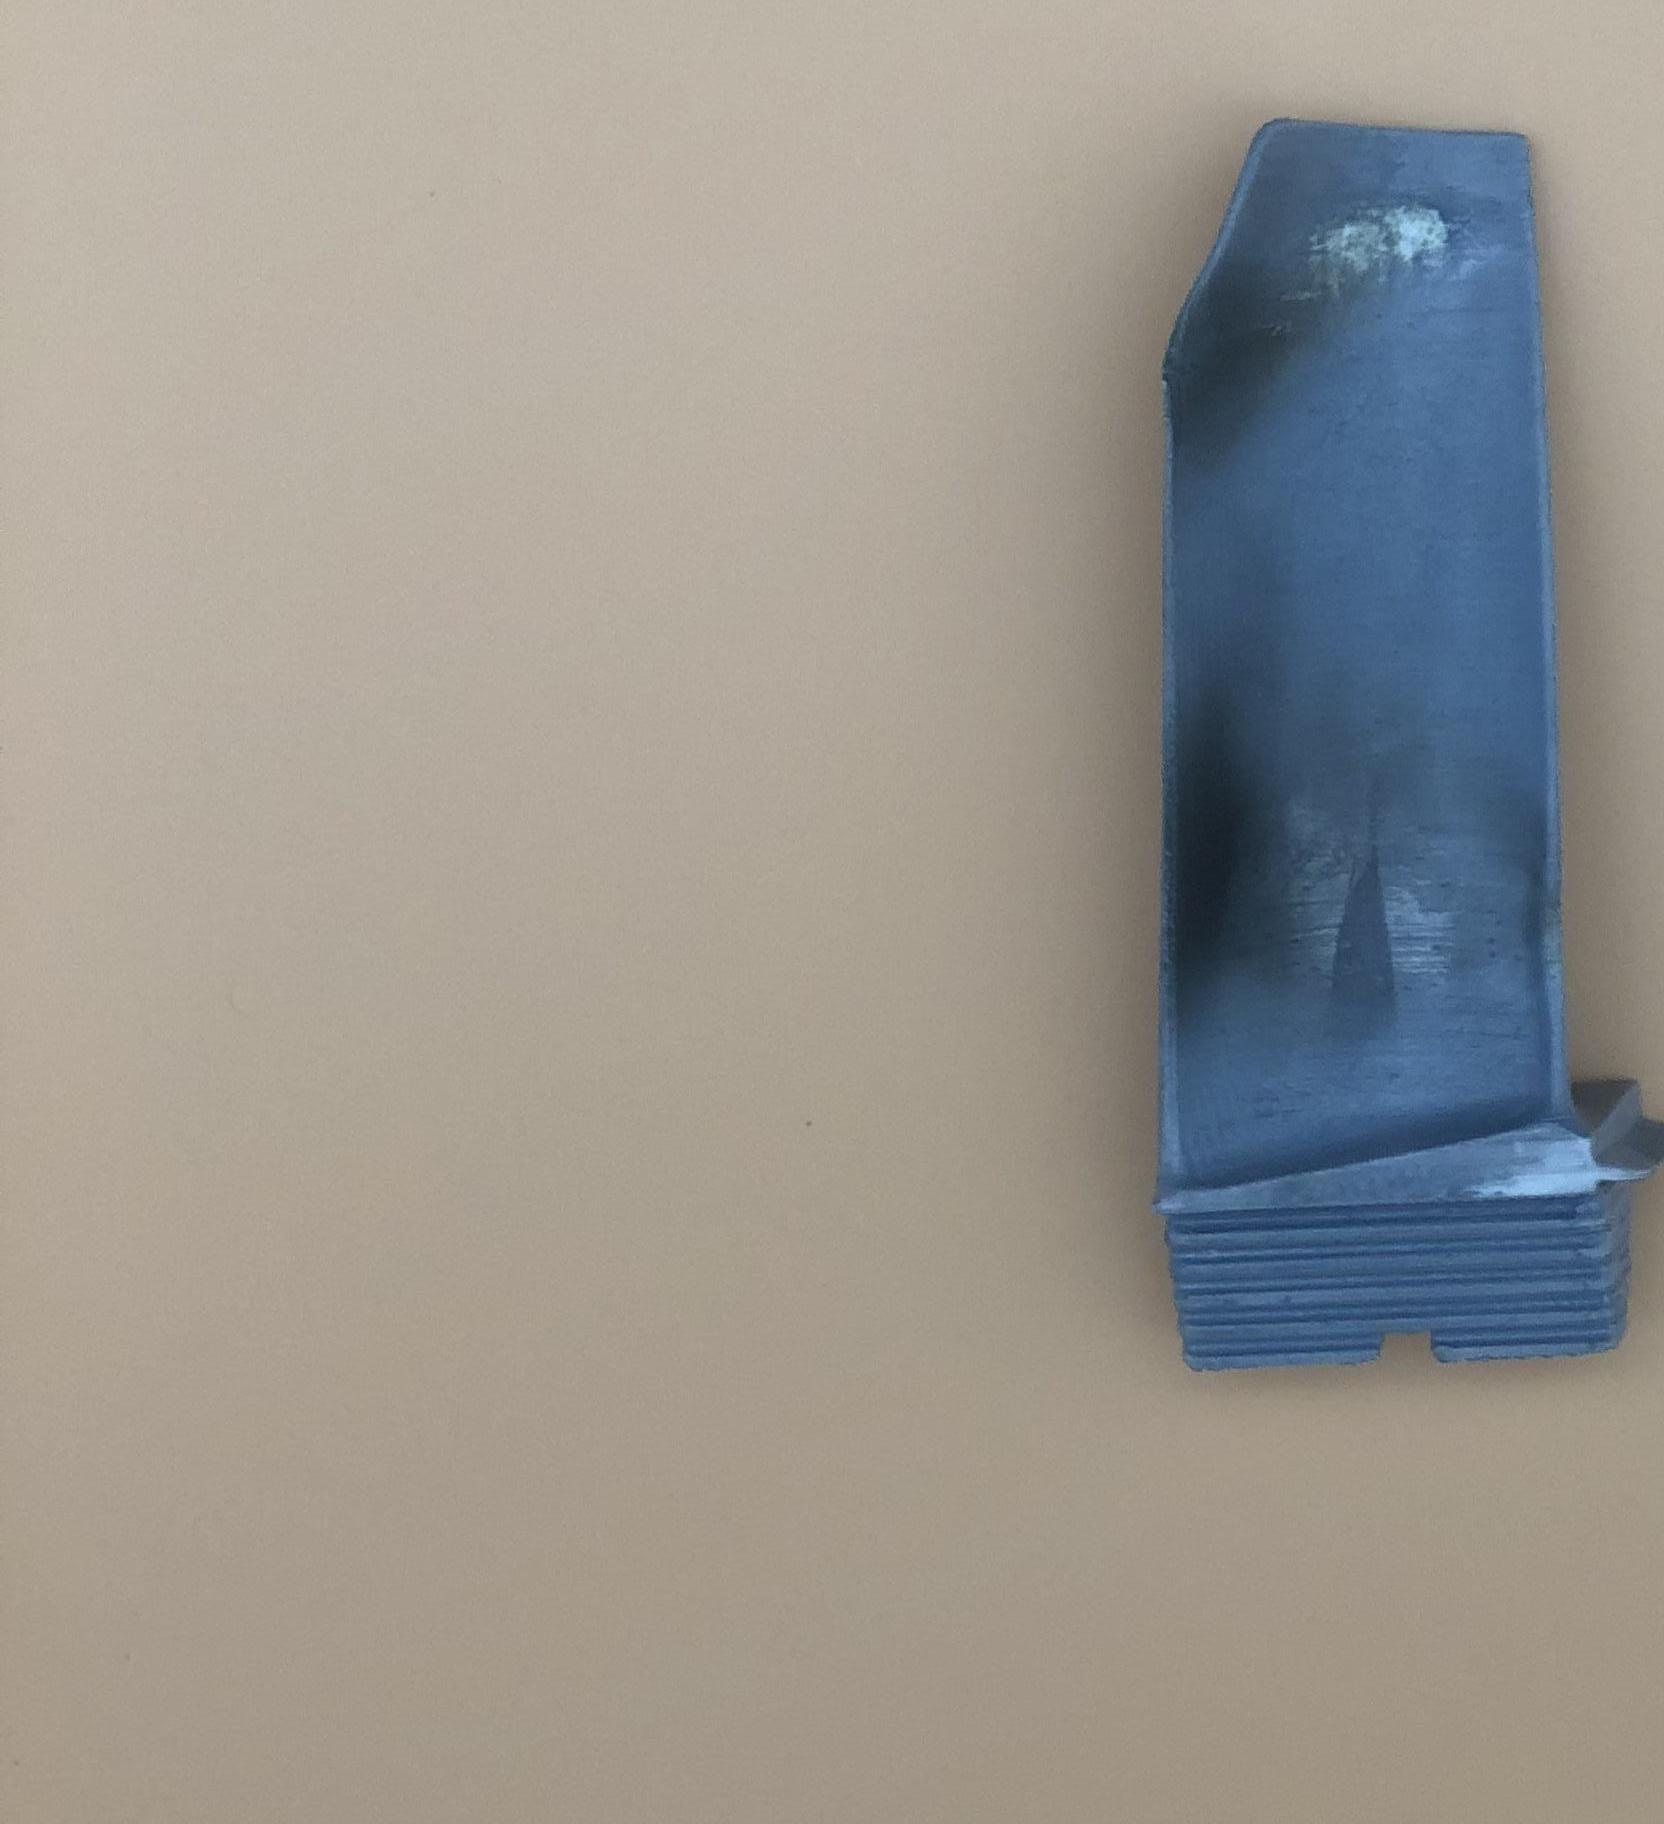ablation: (1171, 717, 1321, 983), (1171, 257, 1310, 454)
